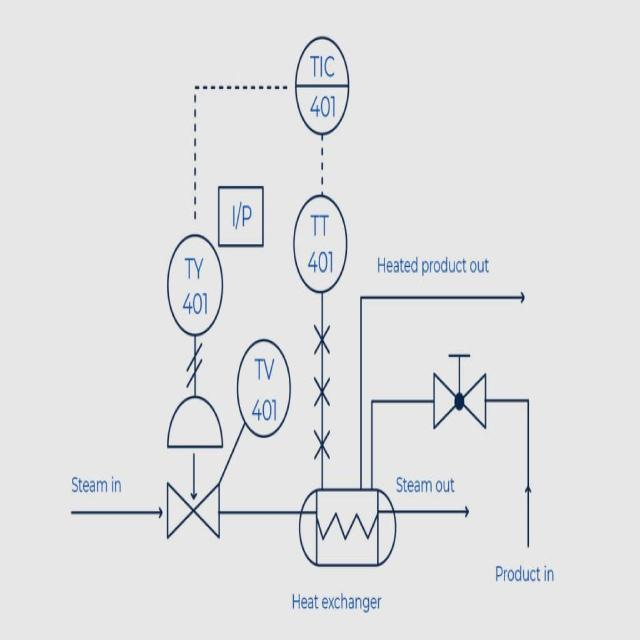Fail Closed Safe Position: (158, 386, 228, 560)
Hand Operated Globe Valve: (424, 332, 499, 443)
